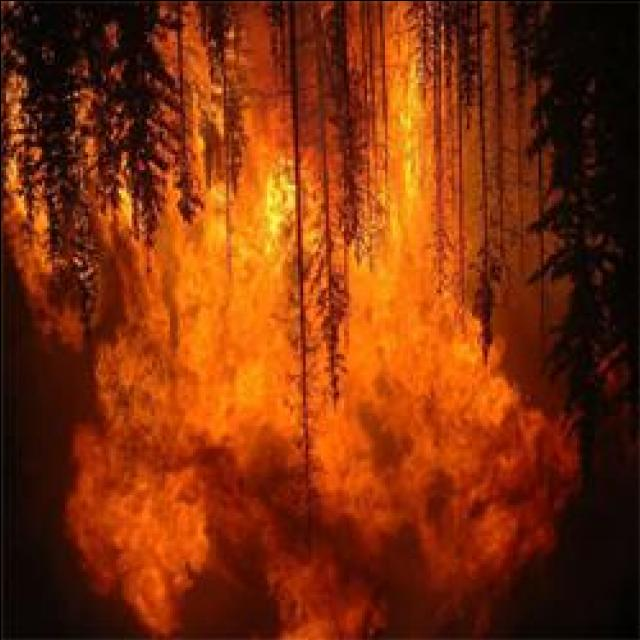fire: (111, 220, 278, 447), (355, 294, 519, 414), (384, 13, 436, 213), (240, 153, 296, 255)
smoke: (162, 496, 434, 636), (461, 429, 640, 631)
